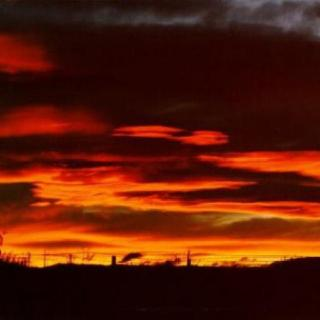Altostratus: (10, 0, 320, 252)
